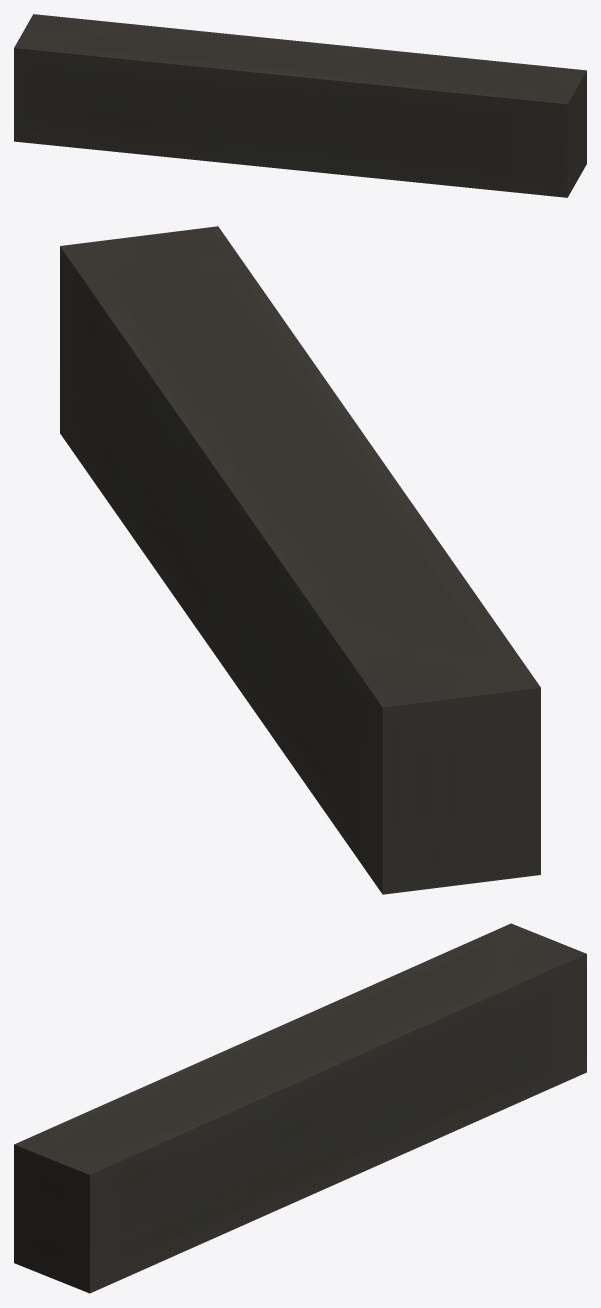
File: frame__rear_upright_neg.glb
3 views of the same model, one above another, from view 1: azimuth 30°, elevation 25°; view 2: azimuth 150°, elevation 25°; view 3: azimuth 270°, elevation 25° (orthographic). The views are drawn at different scales.
Parts seen in each view (by area): view 1: world; view 2: world; view 3: world.
Part boxes in pixels (x1,y1,x2,y2): world: [14, 14, 586, 197]; world: [60, 226, 540, 894]; world: [14, 923, 586, 1293].
Size of the model in its own units: 0.2275 by 0.05 by 0.219.
Materials: 1 (1 with a texture image).
